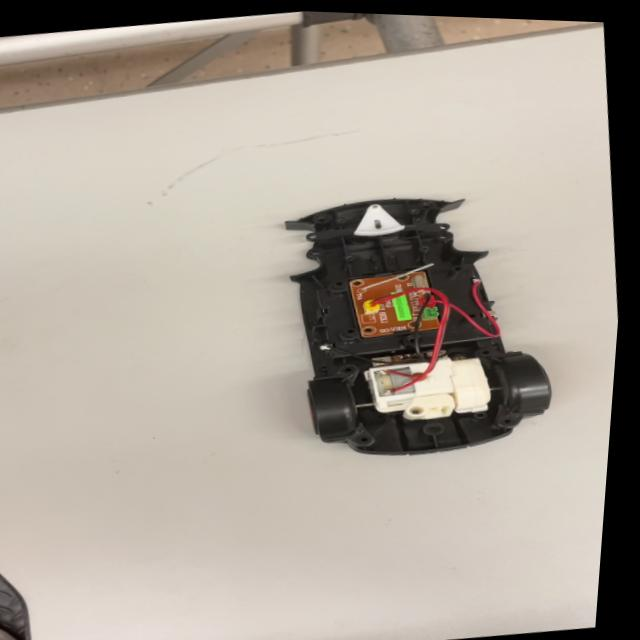Chassis: (264, 180, 559, 476)
